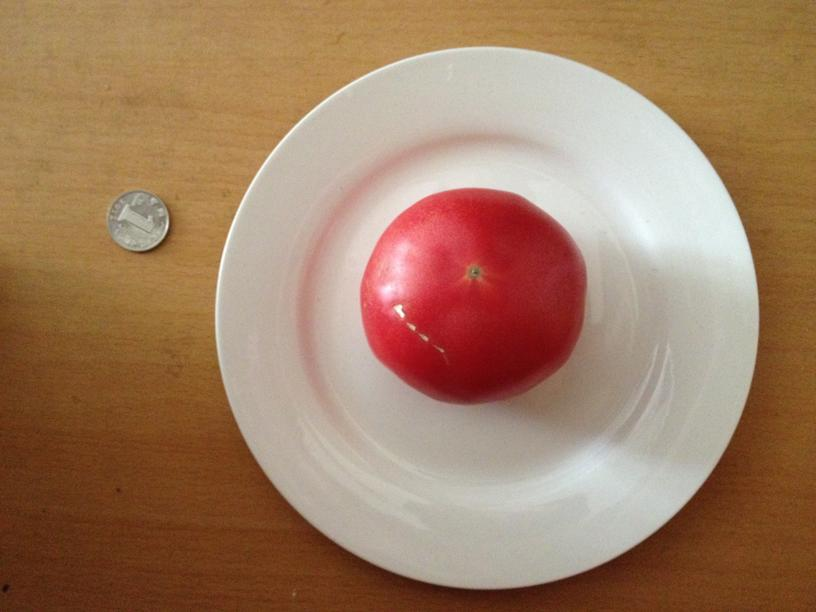coin: (98, 189, 170, 253)
tomato: (359, 183, 588, 403)
